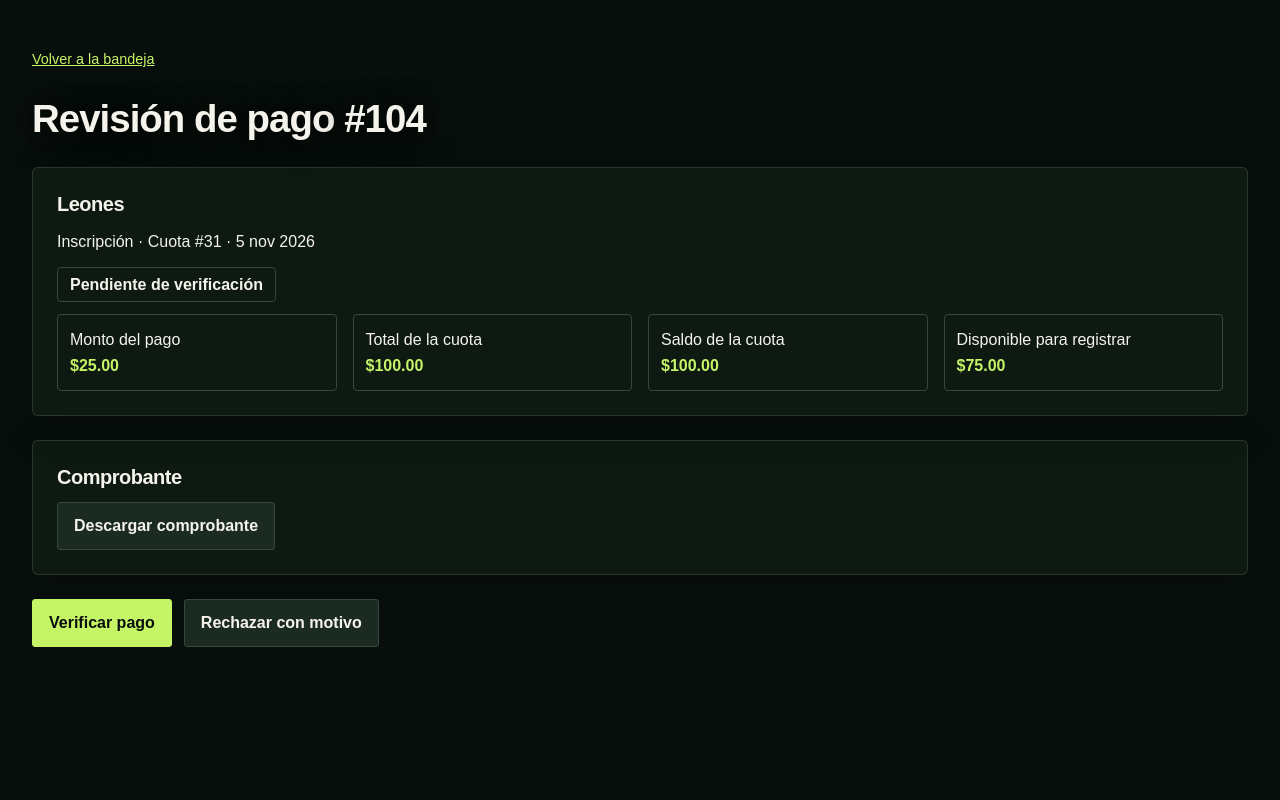
Test: refresca el pago en un conflicto y retira las acciones si ya fue resuelto
Click the button "Verificar pago".
click(102, 623)  # box [32,599,172,647]
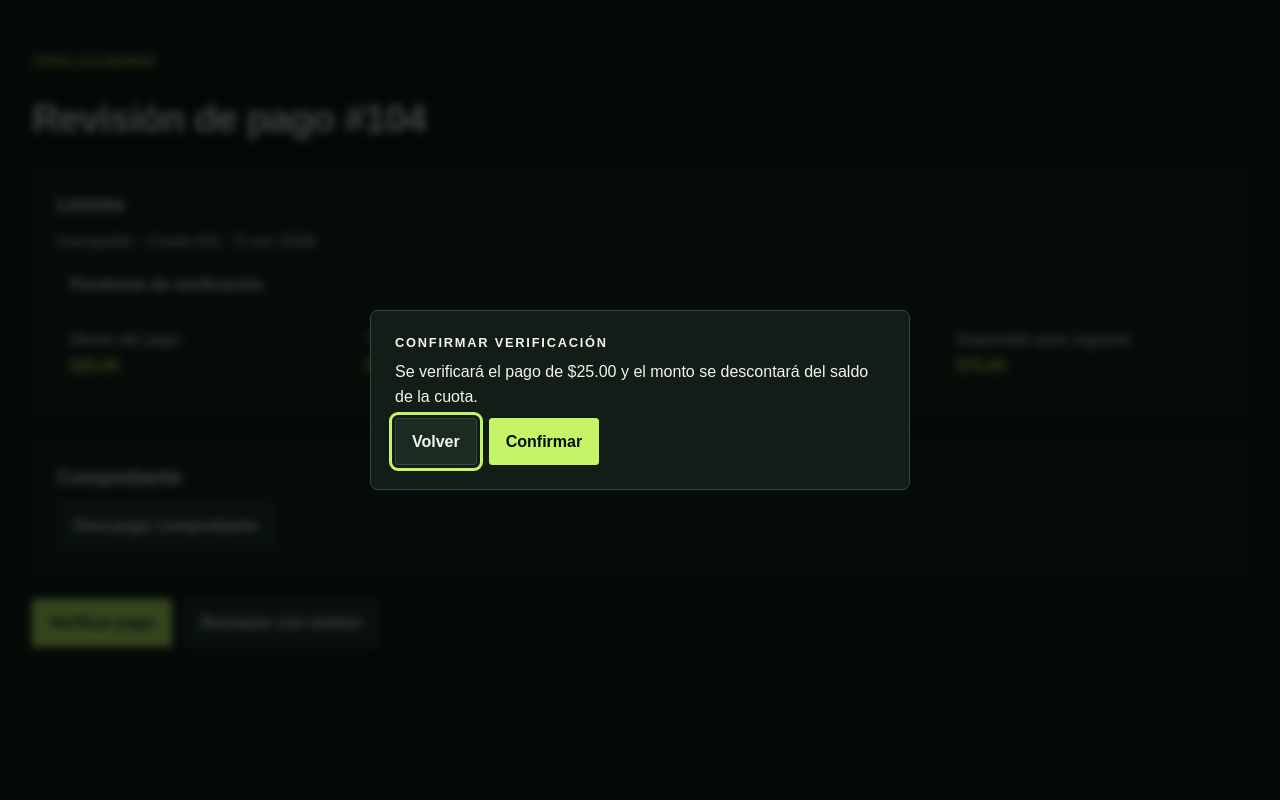
Click the button "Confirmar".
click(544, 442)  # box [489,418,599,465]
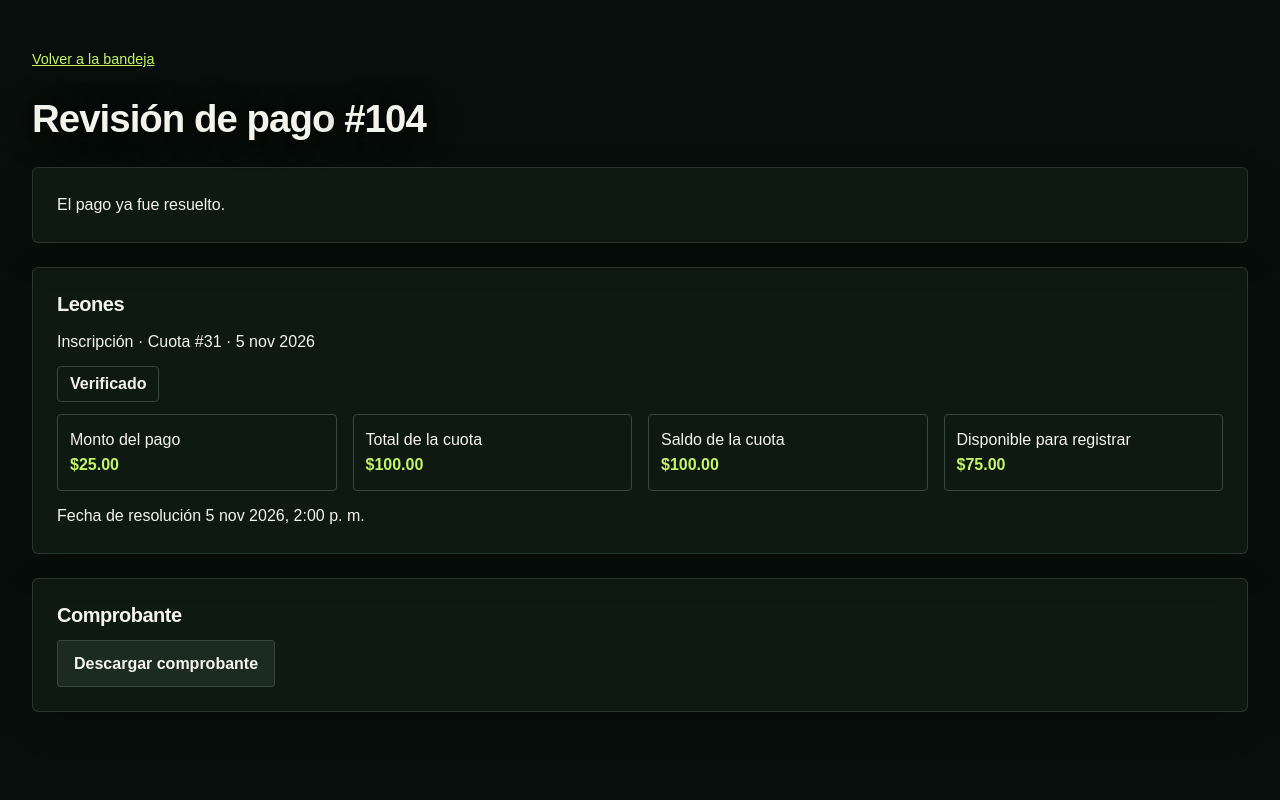
Check: the text "El pago ya fue resuelto." is shown, box [32,167,1248,243]
Check: the text "Verificado" is shown, box [57,366,160,402]
Check: the button "Rechazar con motivo" is gone
